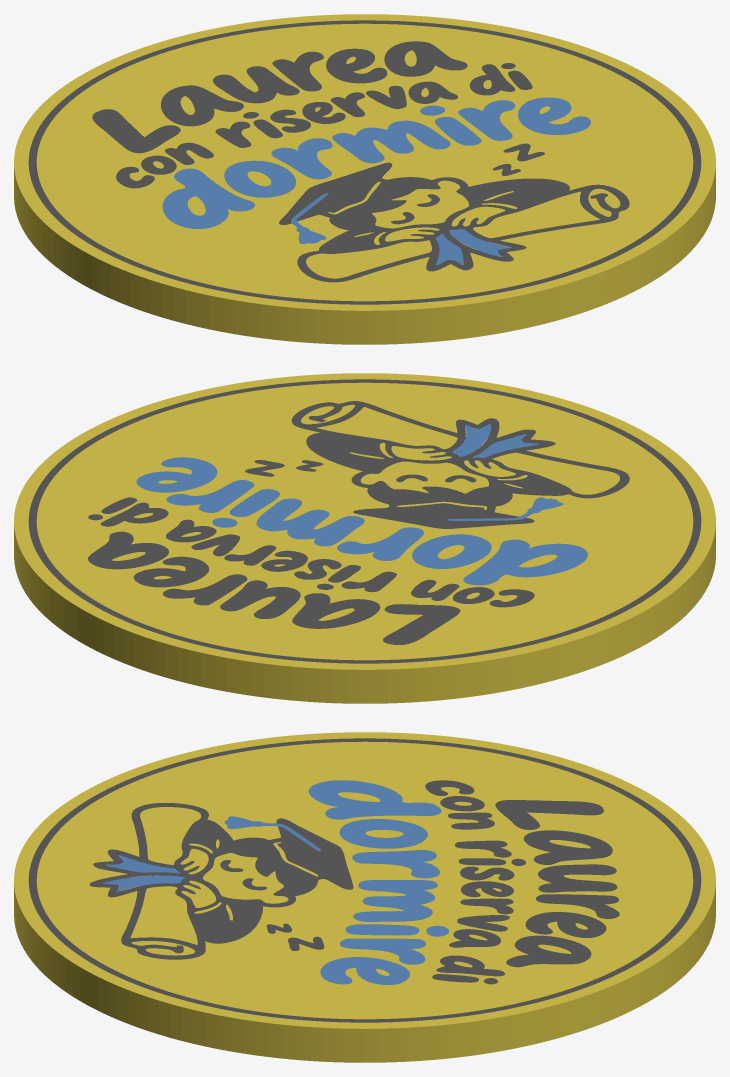
File: sottobicchiere-laurea-con-riserva.glb
The picture shows the model from 3 angles, top to bottom: view 1: azimuth 30°, elevation 25°; view 2: azimuth 150°, elevation 25°; view 3: azimuth 270°, elevation 25°; orthographic projection.
Visible parts, largest first — view 1: coaster_base, coaster_ink, coaster_accent; view 2: coaster_base, coaster_ink, coaster_accent; view 3: coaster_base, coaster_ink, coaster_accent.
Part boxes in pixels (left/top/right/bottom): coaster_base: left=14, top=14, right=715, bottom=344; coaster_ink: left=28, top=20, right=701, bottom=304; coaster_accent: left=162, top=97, right=590, bottom=265; coaster_base: left=14, top=373, right=715, bottom=703; coaster_ink: left=28, top=379, right=701, bottom=663; coaster_accent: left=136, top=424, right=587, bottom=585; coaster_base: left=14, top=732, right=715, bottom=1062; coaster_ink: left=28, top=738, right=701, bottom=1022; coaster_accent: left=103, top=780, right=449, bottom=984.
Bounding box in the file's own units: 0.075 × 0.004 × 0.075.
